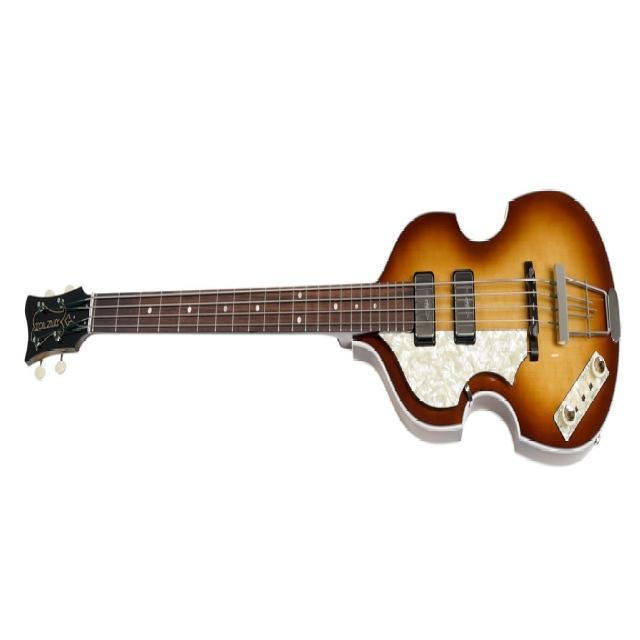bass: (26, 192, 619, 461)
